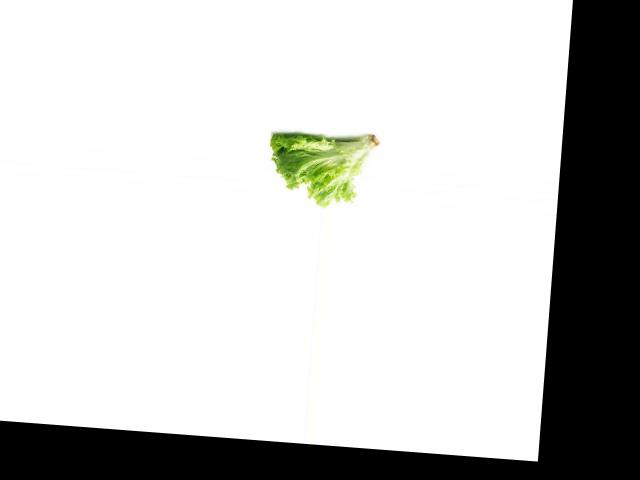lettuce: (266, 125, 382, 211)
